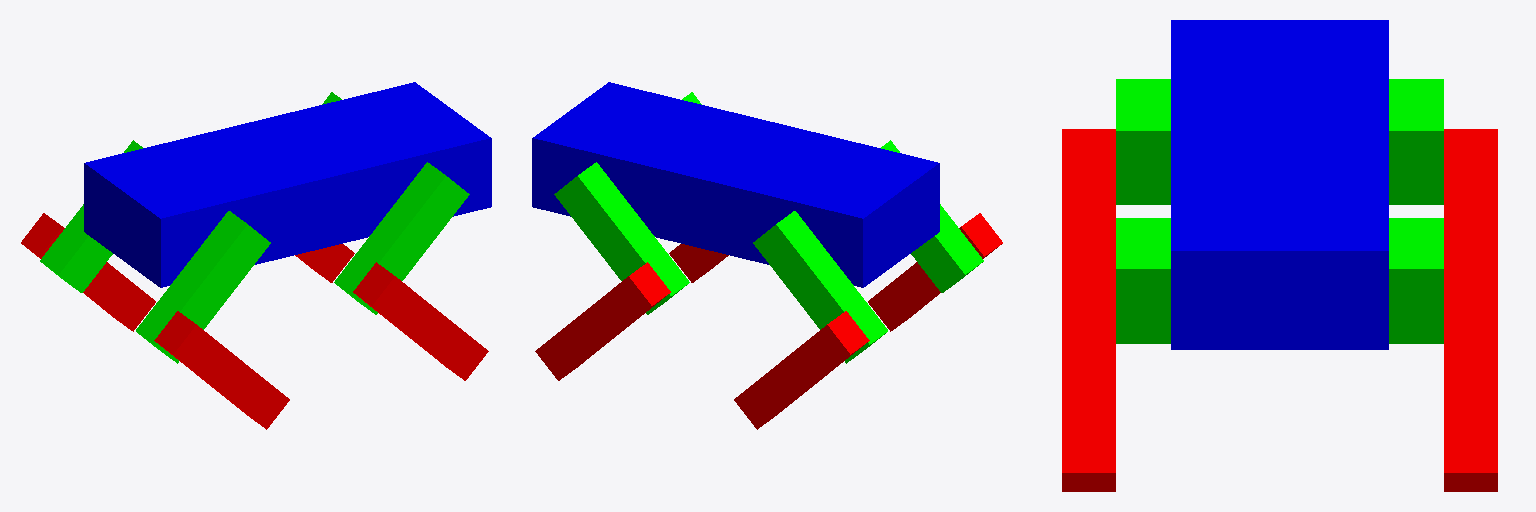
URDF robot description (5406dog):
<?xml version="1.0"?>
<robot name="5406dog">

    <material name="blue">
        <color rgba="0 0 1.0 1"/>
    </material>
    <material name="green">
        <color rgba="0 1.0 0 1"/>
    </material>
    <material name="red">
        <color rgba="1.0 0 0 1"/>
    </material>


    <link name="base_link">
        <inertial>
            <origin rpy="0 0 0" xyz="0 0 0.475"/>
            <mass value="1"/>
          <inertia
            ixx="0.26298"
            ixy="2.574E-06"
            ixz="-5.7411E-09"
            iyy="1.3758"
            iyz="1.0917E-09"
            izz="1.5389" />
        </inertial>

        <visual>
            <origin rpy="0 0 0" xyz="0 0 0.475"/>
            <geometry>
                <box size="1.0 0.4 0.2"/>
            </geometry>
            <material name="blue"/>
        </visual>

        <collision>
            <origin rpy="0 0 0" xyz="0 0 0.475"/>
            <geometry>
                <box size="1.0 0.4 0.2"/>
            </geometry>
            <!--contact_coefficient mu="0.65"/-->
        </collision>
    </link>

<!-- .........................................................LEFT SIDE LEGS...........................................-->

    <link name="front_left_upper_leg">
        <inertial>i
            <origin rpy="0 0.7854 0"  xyz="-0.1 0 -0.1"/>
            <mass value="0.75"/>
      <inertia
        ixx="0.00092141"
        ixy="1.4935E-17"
        ixz="0.00031984"
        iyy="0.0085789"
        iyz="-7.5894E-19"
        izz="0.0090481" />
    </inertial>

        <visual>
            <origin rpy="0 0.7854 0"  xyz="-0.1 0 -0.1"/>
            <geometry>
                <box size="0.1 0.1 0.4"/>
            </geometry>
            <material name="green"/>
        </visual>

        <collision>
            <origin rpy="0 0.7854 0" xyz="-0.1 0 -0.1"/>
            <geometry>
                <box size="0.1 0.1 0.4"/>
            </geometry>
            <contact_coefficient mu="0.65"/>
        </collision>
    </link>

    <joint name="base_to_front_left_leg" type="revolute">
        <parent link="base_link"/>
        <child link="front_left_upper_leg"/>
        <origin xyz="0.3 0.25 0.475"/>
        <axis xyz="0 1 0"/>
        <limit
          lower="-1.5708"
          upper="0"
          effort="10"
          velocity="2" />
        <dynamics friction="1" damping="0.5"/>
    </joint>

    <link name="front_left_lower_leg">
        <inertial>
            <origin rpy="0 -0.7854 0"  xyz="0.1 0 -0.1"/>
            <mass value="0.75"/>
      <inertia
        ixx="0.00092141"
        ixy="-2.5208E-18"
        ixz="0.00031984"
        iyy="0.0085789"
        iyz="2.9816E-19"
        izz="0.0090481" />
        </inertial>

        <visual>
            <origin rpy="0 -0.7854 0"  xyz="0.1 0 -0.1"/>
            <geometry>
                <box size="0.1 0.1 0.4"/>
            </geometry>
            <material name="red"/>
        </visual>

        <collision>
            <origin rpy="0 -0.7854 0" xyz="0.1 0 -0.1"/>
            <geometry>
                <box size="0.1 0.1 0.4"/>
            </geometry>
            <contact_coefficient mu="0.65"/>
        </collision>
    </link>

    <joint name="front_left_leg_knee" type="revolute">
        <parent link="front_left_upper_leg"/>
        <child link="front_left_lower_leg"/>
        <origin xyz="-0.2 0.1 -0.2"/>
        <axis xyz="0 1 0"/>
        <limit
          lower="-0.3927"
          upper="0.7854"
          effort="10"
          velocity="2" /> <!--lower="-0.7854", "-0.3927"--><!--upper="1.5708" "0.7854"-->
        <dynamics friction="1" damping="0.5"/>
    </joint>


    <link name="back_left_upper_leg">
        <inertial>
            <origin rpy="0 0.7854 0"  xyz="-0.1 0 -0.1"/>
            <mass value="0.75"/>
      <inertia
        ixx="0.00092141"
        ixy="5.7192E-18"
        ixz="0.00031984"
        iyy="0.0085789"
        iyz="-2.7105E-19"
        izz="0.0090481" />
        </inertial>

        <visual>
            <origin rpy="0 0.7854 0"  xyz="-0.1 0 -0.1"/>
            <geometry>
                <box size="0.1 0.1 0.4"/>
            </geometry>
            <material name="green"/>
        </visual>

        <collision>
            <origin rpy="0 0.7854 0" xyz="-0.1 0 -0.1"/>
            <geometry>
                <box size="0.1 0.1 0.4"/>
            </geometry>
            <contact_coefficient mu="0.65"/>
        </collision>
    </link>

    <joint name="base_to_back_left_leg" type="revolute">
        <parent link="base_link"/>
        <child link="back_left_upper_leg"/>
        <origin xyz="-0.3 0.25 0.475"/>
        <axis xyz="0 1 0"/>
        <limit
          lower="-1.5708"
          upper="0"
          effort="10"
          velocity="2" />
        <dynamics friction="1" damping="0.5"/>
    </joint>

    <link name="back_left_lower_leg">
        <inertial>
            <origin rpy="0 -0.7854 0"  xyz="0.1 0 -0.1"/>
            <mass value="0.75"/>
      <inertia
        ixx="0.00092141"
        ixy="-7.5081E-18"
        ixz="0.00031984"
        iyy="0.0085789"
        iyz="4.3368E-19"
        izz="0.0090481" />
        </inertial>

        <visual>
            <origin rpy="0 -0.7854 0"  xyz="0.1 0 -0.1"/>
            <geometry>
                <box size="0.1 0.1 0.4"/>
            </geometry>
            <material name="red"/>
        </visual>

        <collision>
            <origin rpy="0 -0.7854 0" xyz="0.1 0 -0.1"/>
            <geometry>
                <box size="0.1 0.1 0.4"/>
            </geometry>
            <contact_coefficient mu="0.65"/>
        </collision>
    </link>

    <joint name="back_left_leg_knee" type="revolute">
        <parent link="back_left_upper_leg"/>
        <child link="back_left_lower_leg"/>
        <origin xyz="-0.2 0.1 -0.2"/>
        <axis xyz="0 1 0"/>
        <limit
          lower="-0.3927"
          upper="0.7854"
          effort="10"
          velocity="2" /> <!--lower = -0.7854-->
        <dynamics friction="1" damping="0.5"/>
    </joint>

<!-- .........................................................RIGHT SIDE LEGS...........................................-->

    <link name="front_right_upper_leg">
        <inertial>
            <origin rpy="0 0.7854 0"  xyz="-0.1 0 -0.1"/>
            <mass value="0.75"/>
      <inertia
        ixx="0.00092141"
        ixy="-1.8784E-17"
        ixz="0.00031984"
        iyy="0.0085789"
        iyz="8.9447E-19"
        izz="0.0090481" />
        </inertial>

        <visual>
            <origin rpy="0 0.7854 0"  xyz="-0.1 0 -0.1"/>
            <geometry>
                <box size="0.1 0.1 0.4"/>
            </geometry>
            <material name="green"/>
        </visual>

        <collision>
            <origin rpy="0 0.7854 0" xyz="-0.1 0 -0.1"/>
            <geometry>
                <box size="0.1 0.1 0.4"/>
            </geometry>
            <contact_coefficient mu="0.65"/>
        </collision>
    </link>

    <joint name="base_to_front_right_leg" type="revolute">
        <parent link="base_link"/>
        <child link="front_right_upper_leg"/>
        <origin xyz="0.3 -0.25 0.475"/>
        <axis xyz="0 1 0"/>
        <limit
          lower="-1.5708"
          upper="0"
          effort="10"
          velocity="2" />
        <dynamics friction="1" damping="0.5"/>
    </joint>

    <link name="front_right_lower_leg">
        <inertial>
            <origin rpy="0 -0.7854 0"  xyz="0.1 0 -0.1"/>
            <mass value="0.75"/>
      <inertia
        ixx="0.00092141"
        ixy="-3.1442E-18"
        ixz="0.00031984"
        iyy="0.0085789"
        iyz="2.4395E-19"
        izz="0.0090481" />
        </inertial>

        <visual>
            <origin rpy="0 -0.7854 0"  xyz="0.1 0 -0.1"/>
            <geometry>
                <box size="0.1 0.1 0.4"/>
            </geometry>
            <material name="red"/>
        </visual>

        <collision>
            <origin rpy="0 -0.7854 0" xyz="0.1 0 -0.1"/>
            <geometry>
                <box size="0.1 0.1 0.4"/>
            </geometry>
            <contact_coefficient mu="0.65"/>
        </collision>
    </link>

    <joint name="front_right_leg_knee" type="revolute">
        <parent link="front_right_upper_leg"/>
        <child link="front_right_lower_leg"/>
        <origin xyz="-0.2 -0.1 -0.2"/>
        <axis xyz="0 1 0"/>
        <limit
          lower="-0.3927"
          upper="0.7854"
          effort="10"
          velocity="2" />
        <dynamics friction="1" damping="0.5"/>
    </joint>


    <link name="back_right_upper_leg">
        <inertial>
            <origin rpy="0 0.7854 0"  xyz="-0.1 0 -0.1"/>
            <mass value="0.75"/>
      <inertia
        ixx="0.00092141"
        ixy="-1.1113E-17"
        ixz="0.00031984"
        iyy="0.0085789"
        iyz="4.8789E-19"
        izz="0.0090481" />
        </inertial>

        <visual>
            <origin rpy="0 0.7854 0"  xyz="-0.1 0 -0.1"/>
            <geometry>
                <box size="0.1 0.1 0.4"/>
            </geometry>
            <material name="green"/>
        </visual>

        <collision>
            <origin rpy="0 0.7854 0" xyz="-0.1 0 -0.1"/>
            <geometry>
                <box size="0.1 0.1 0.4"/>
            </geometry>
            <contact_coefficient mu="0.65"/>
        </collision>
    </link>

    <joint name="base_to_back_right_leg" type="revolute">
        <parent link="base_link"/>
        <child link="back_right_upper_leg"/>
        <origin xyz="-0.3 -0.25 0.475"/>
        <axis xyz="0 1 0"/>
        <limit
          lower="-1.5708"
          upper="0"
          effort="10"
          velocity="2" />
        <dynamics friction="1" damping="0.5"/>
    </joint>

    <link name="back_right_lower_leg">
        <inertial>
            <origin rpy="0 -0.7854 0"  xyz="0.1 0 -0.1"/>
            <mass value="0.75"/>
      <inertia
        ixx="0.00092141"
        ixy="1.7076E-18"
        ixz="0.00031984"
        iyy="0.0085789"
        iyz="-1.0842E-19"
        izz="0.0090481" />
        </inertial>

        <visual>
            <origin rpy="0 -0.7854 0"  xyz="0.1 0 -0.1"/>
            <geometry>
                <box size="0.1 0.1 0.4"/>
            </geometry>
            <material name="red"/>
        </visual>

        <collision>
            <origin rpy="0 -0.7854 0" xyz="0.1 0 -0.1"/>
            <geometry>
                <box size="0.1 0.1 0.4"/>
            </geometry>
            <contact_coefficient mu="0.65"/>
        </collision>
    </link>

    <joint name="back_right_leg_knee" type="revolute">
        <parent link="back_right_upper_leg"/>
        <child link="back_right_lower_leg"/>
        <origin xyz="-0.2 -0.1 -0.2"/>
        <axis xyz="0 1 0"/>
        <limit
          lower="-0.3927"
          upper="0.7854"
          effort="10"
          velocity="2" />
        <dynamics friction="1" damping="0.5"/>
    </joint>

</robot>

--- What the picture shows (computed from the rendered views, not written in the file) ---
The picture shows the robot from 3 angles, left to right: view 1: azimuth 30°, elevation 25°; view 2: azimuth 150°, elevation 25°; view 3: azimuth 270°, elevation 25°; orthographic projection.
Robot: 5406dog — 9 links, 8 joints (8 revolute); root link base_link; default pose: every joint at zero.
Visible links, largest first — view 1: base_link, back_right_upper_leg, front_right_upper_leg, front_right_lower_leg, back_right_lower_leg, back_left_lower_leg, back_left_upper_leg, front_left_lower_leg; view 2: base_link, back_left_upper_leg, front_left_upper_leg, front_left_lower_leg, back_left_lower_leg, back_right_lower_leg, back_right_upper_leg, front_right_lower_leg; view 3: base_link, front_left_lower_leg, front_right_lower_leg, back_left_lower_leg, back_right_lower_leg, front_left_upper_leg, back_left_upper_leg, front_right_upper_leg, back_right_upper_leg.
Link boxes in pixels (x1=…): base_link: x1=84, y1=82, x2=491, y2=287; back_right_upper_leg: x1=136, y1=211, x2=270, y2=363; front_right_upper_leg: x1=334, y1=162, x2=469, y2=314; front_right_lower_leg: x1=353, y1=262, x2=488, y2=380; back_right_lower_leg: x1=154, y1=311, x2=289, y2=429; back_left_lower_leg: x1=21, y1=213, x2=155, y2=331; back_left_upper_leg: x1=40, y1=140, x2=142, y2=292; front_left_lower_leg: x1=295, y1=244, x2=354, y2=282; base_link: x1=532, y1=82, x2=939, y2=287; back_left_upper_leg: x1=753, y1=211, x2=887, y2=363; front_left_upper_leg: x1=554, y1=162, x2=689, y2=314; front_left_lower_leg: x1=535, y1=262, x2=670, y2=380; back_left_lower_leg: x1=734, y1=311, x2=869, y2=429; back_right_lower_leg: x1=868, y1=213, x2=1002, y2=331; back_right_upper_leg: x1=881, y1=140, x2=983, y2=292; front_right_lower_leg: x1=669, y1=244, x2=728, y2=282; base_link: x1=1171, y1=20, x2=1388, y2=349; front_left_lower_leg: x1=1444, y1=268, x2=1497, y2=491; front_right_lower_leg: x1=1062, y1=268, x2=1115, y2=491; back_left_lower_leg: x1=1444, y1=129, x2=1497, y2=267; back_right_lower_leg: x1=1062, y1=129, x2=1115, y2=267; front_left_upper_leg: x1=1389, y1=218, x2=1443, y2=343; back_left_upper_leg: x1=1389, y1=79, x2=1443, y2=204; front_right_upper_leg: x1=1116, y1=218, x2=1170, y2=343; back_right_upper_leg: x1=1116, y1=79, x2=1170, y2=204.
Bounding box of the posed robot: 1.08 × 0.8 × 0.5768 m (x, y, z).
Geometry: primitives only (box / cylinder / sphere), no mesh files.